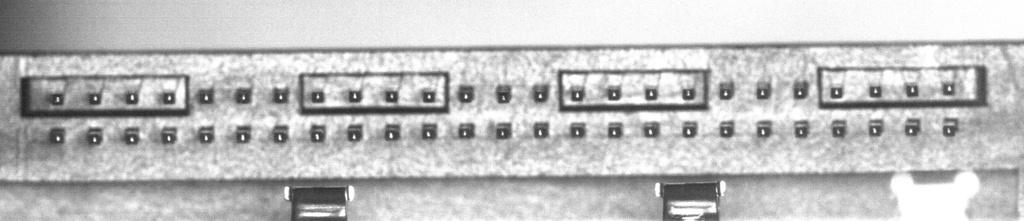pin_ok: (457, 85, 475, 103), (234, 86, 252, 104), (495, 84, 512, 103), (942, 117, 959, 136), (904, 117, 921, 136), (532, 84, 549, 102), (235, 125, 252, 143), (197, 126, 214, 144), (718, 81, 735, 99), (831, 119, 848, 137), (793, 80, 809, 99), (346, 124, 363, 141), (271, 86, 288, 103), (197, 87, 214, 104), (458, 122, 475, 139), (160, 127, 177, 144), (532, 121, 549, 138), (49, 127, 66, 144), (86, 128, 103, 145), (756, 120, 772, 138), (794, 119, 810, 137), (570, 121, 586, 138), (682, 120, 698, 137), (607, 121, 624, 137), (310, 125, 326, 142), (496, 122, 512, 139), (719, 120, 735, 137), (421, 123, 437, 140), (124, 127, 140, 144), (272, 126, 288, 143), (384, 124, 400, 141), (869, 118, 884, 136), (643, 121, 659, 137), (569, 86, 585, 102), (606, 85, 621, 100), (756, 84, 771, 99), (421, 89, 436, 103), (384, 89, 399, 103), (681, 86, 696, 100), (829, 85, 844, 99), (310, 89, 324, 103), (905, 83, 919, 97), (644, 86, 658, 100), (347, 89, 362, 102), (50, 92, 65, 105), (942, 82, 956, 95), (162, 91, 176, 104), (125, 91, 139, 104), (87, 92, 101, 105), (869, 84, 882, 98)
